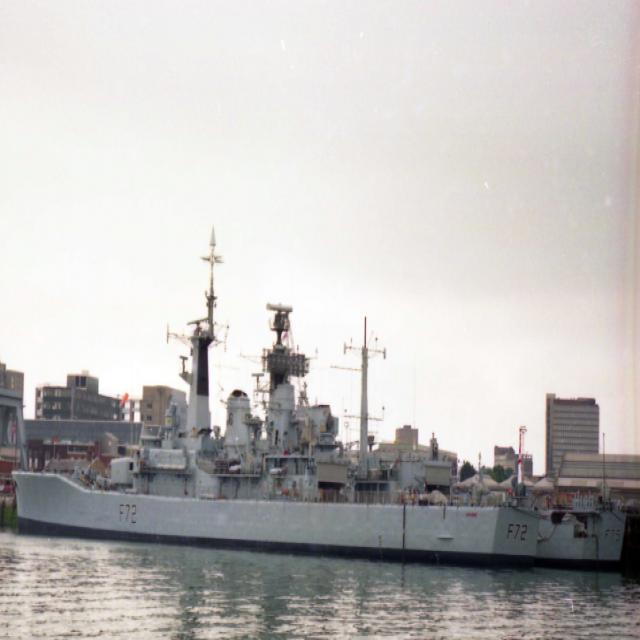Fragata: (10, 210, 541, 578)
